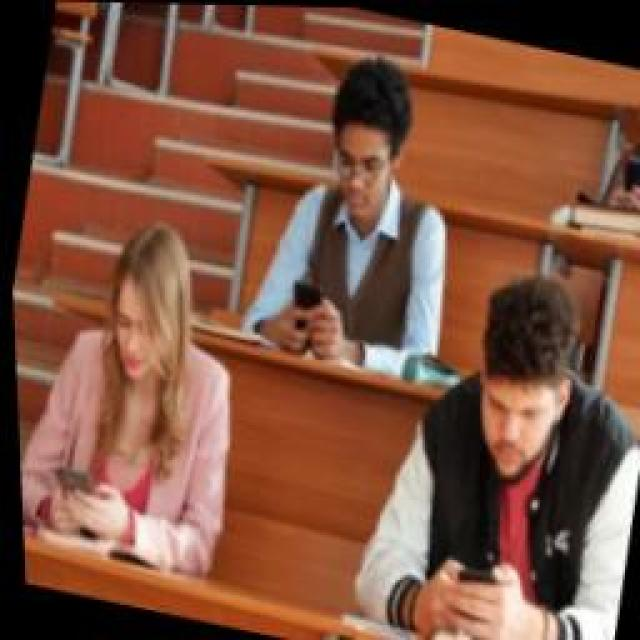phone: (325, 242, 640, 640), (8, 200, 270, 582), (215, 38, 487, 392), (582, 60, 640, 242)
